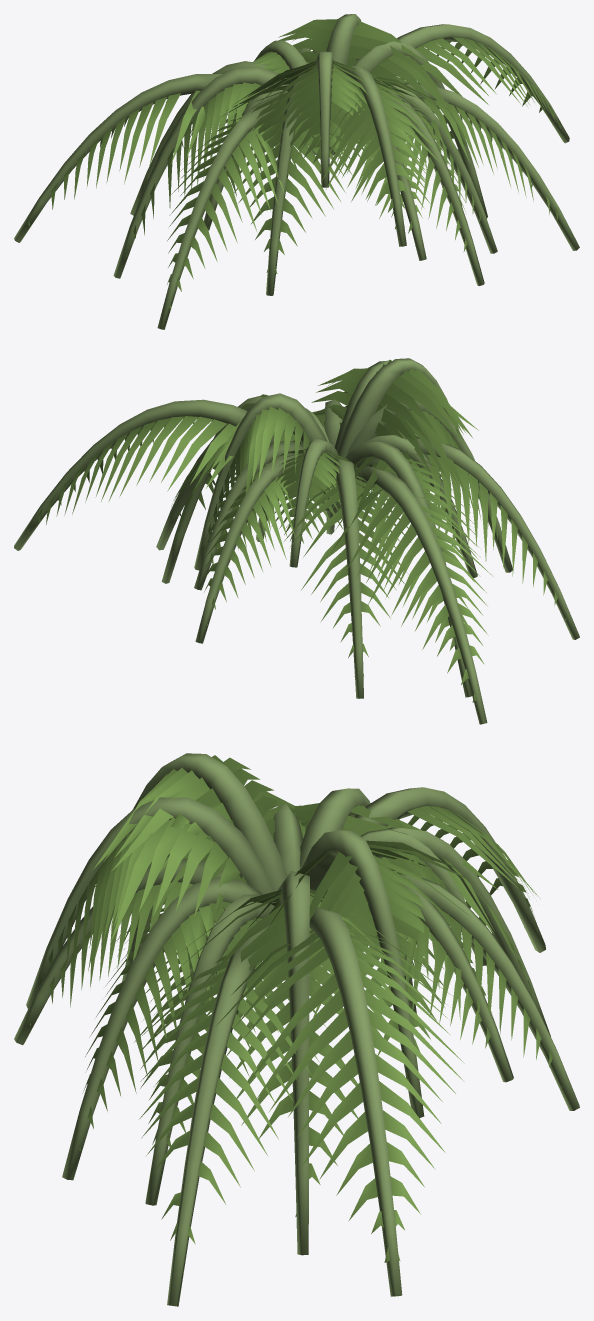
The model's file is fern.glb.
3 views of the same model, one above another, from view 1: azimuth 30°, elevation 25°; view 2: azimuth 150°, elevation 25°; view 3: azimuth 270°, elevation 25° (orthographic). The views are drawn at different scales.
Visible parts, largest first — view 1: fern; view 2: fern; view 3: fern.
Part boxes in pixels (<box>): fern: <box>14,14,579,329</box>; fern: <box>14,358,579,724</box>; fern: <box>14,753,579,1306</box>.
Size of the model in its own units: 1.47 by 0.6896 by 0.9446.
